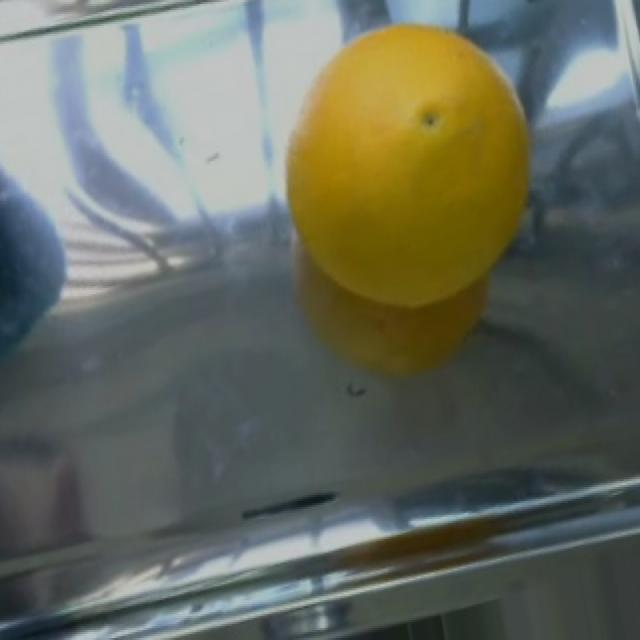Fruit: (264, 6, 541, 372)
